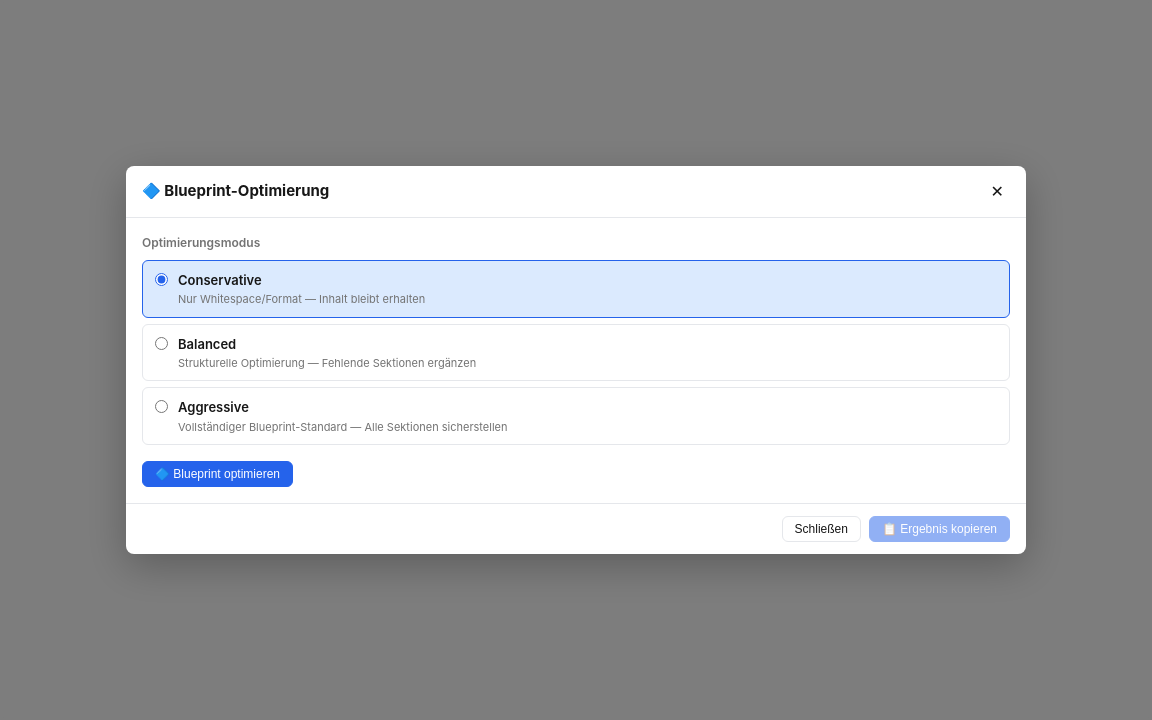
Scenario: BlueprintOptimizationPanel › optimization › shows before/after diff panes after optimization
This screenshot has width=1152, height=720.
What coordinates should you click on to do the following:
click the button "🔷 Blueprint optimieren"
I would click on:
 (218, 474)
Its box is [142,461,293,487].
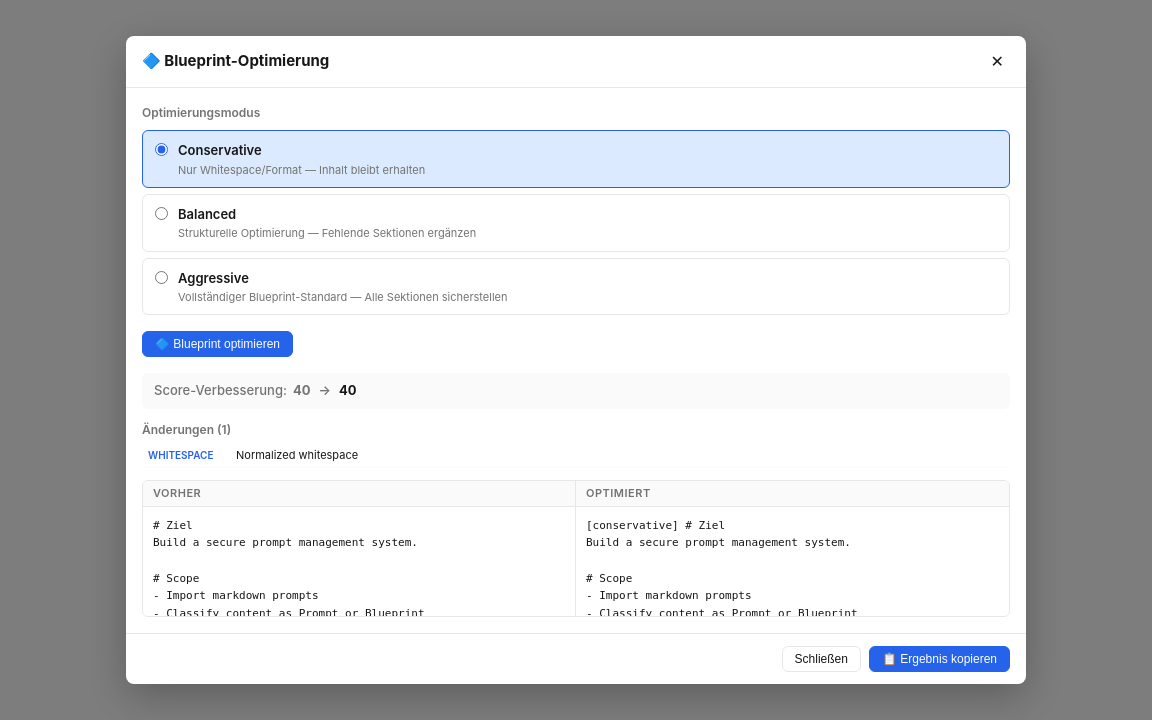
Result: the heading "Vorher" is shown at [143,481,575,507]
Result: the heading "Optimiert" is shown at [576,481,1009,507]
